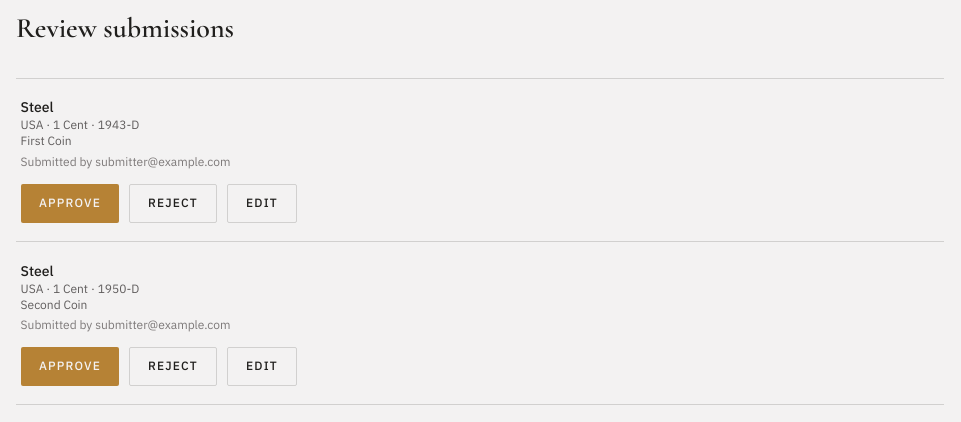
AdminSubmissionsPage › approve (criteria #16, #20) › removes the approved coin from the list after the refetch, keeping the other one
Click the button with test id "admin-submission-approve": (70, 203) [21, 184, 119, 223]
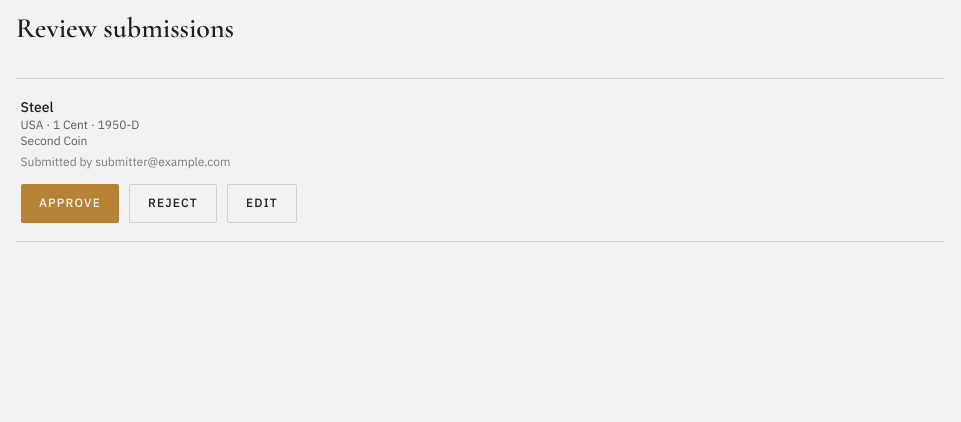
Expected: the element with test id "admin-submission-label" shows "Second Coin", [21, 133, 87, 148]
Result: the number of list items with test id "admin-submission-item" is 1 at [16, 79, 944, 242]
Result: the text "First Coin" is gone
